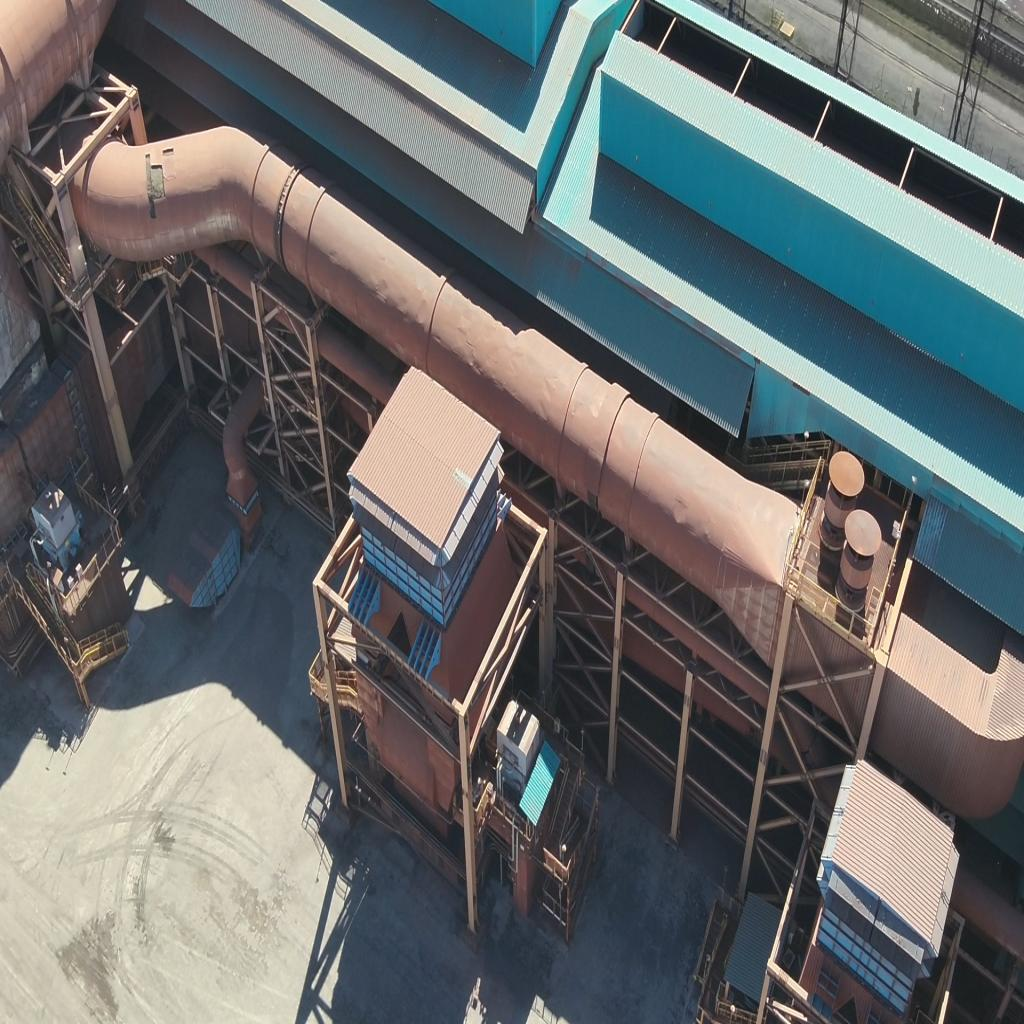Failures: (145, 153, 165, 214), (165, 146, 174, 157)
